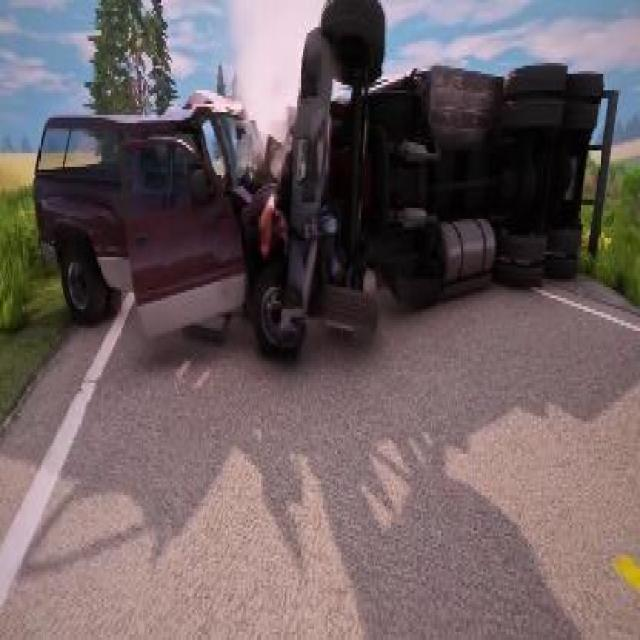accident: (23, 0, 626, 358)
